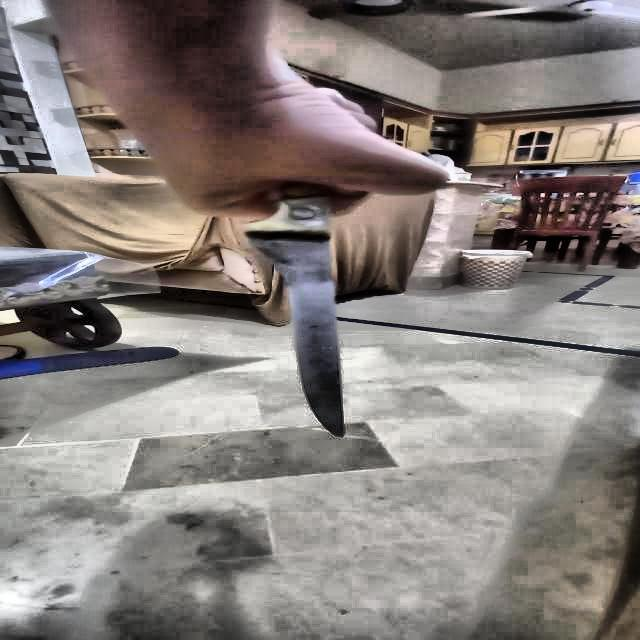knife: (242, 181, 344, 439)
